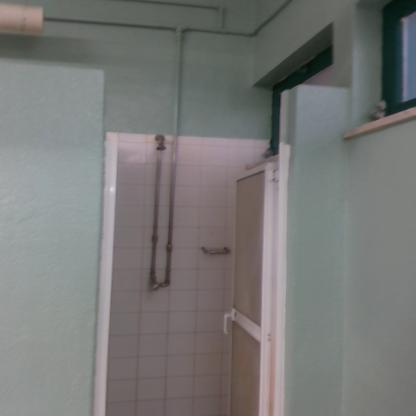open: (93, 119, 322, 416)
